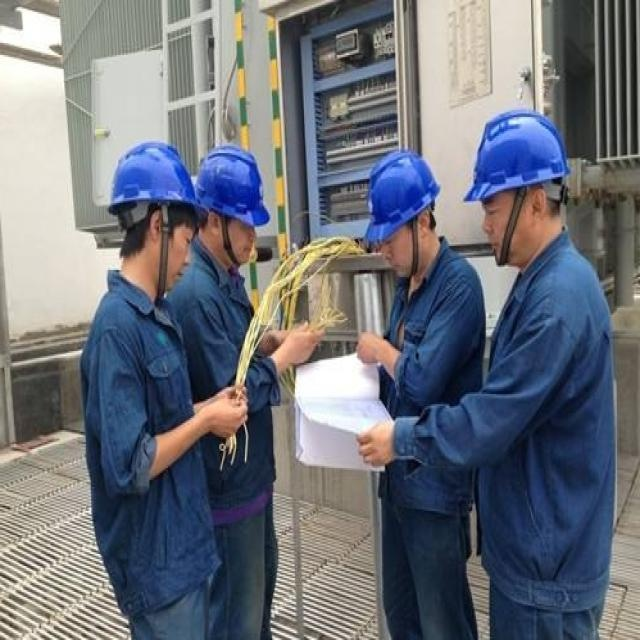Con_Casco: (463, 111, 566, 264), (364, 150, 441, 269)
